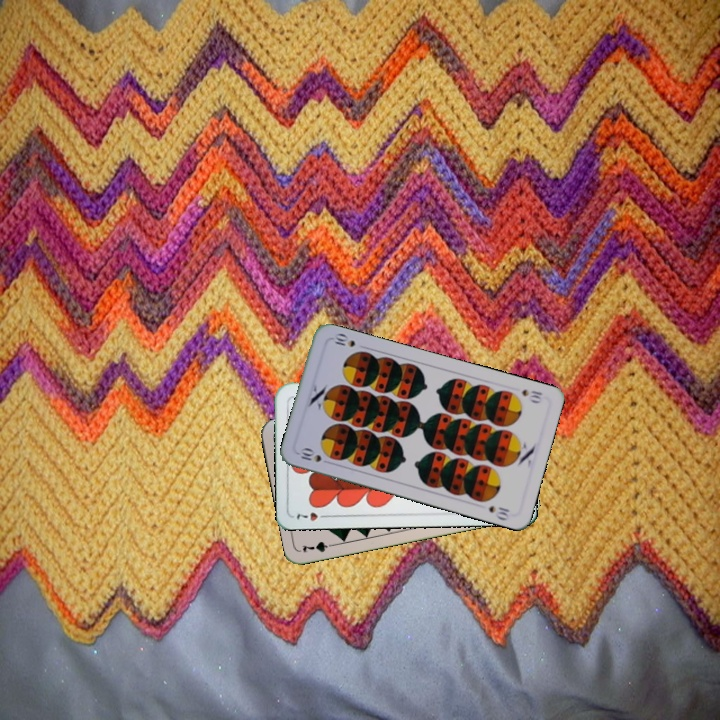G7: (298, 537, 339, 555)
H7: (292, 509, 332, 524)
S10: (294, 445, 324, 465), (517, 385, 545, 406)
